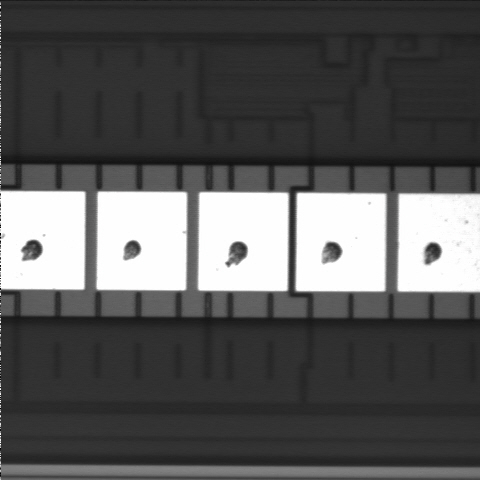pad: (198, 192, 288, 291), (97, 192, 187, 290), (296, 193, 386, 291)
